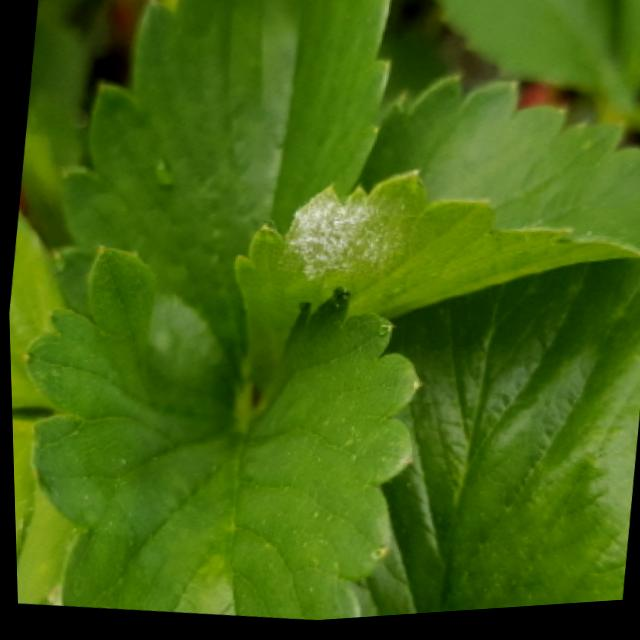Powdery Mildew Leaf: (229, 76, 640, 378)
